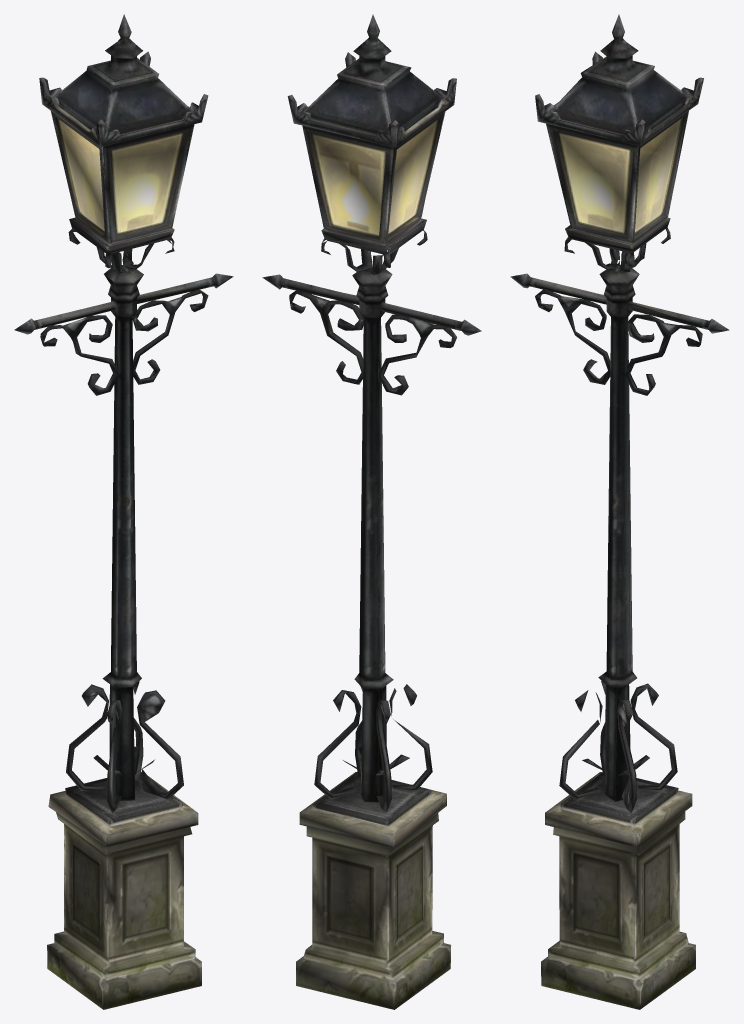
File: lamp.glb
3 renders of one model, left to right at view 1: azimuth 30°, elevation 25°; view 2: azimuth 150°, elevation 25°; view 3: azimuth 330°, elevation 25°, orthographic.
Size of the model in its own units: 0.2275 by 0.9526 by 0.1079.
Materials: 1 (1 with a texture image).
